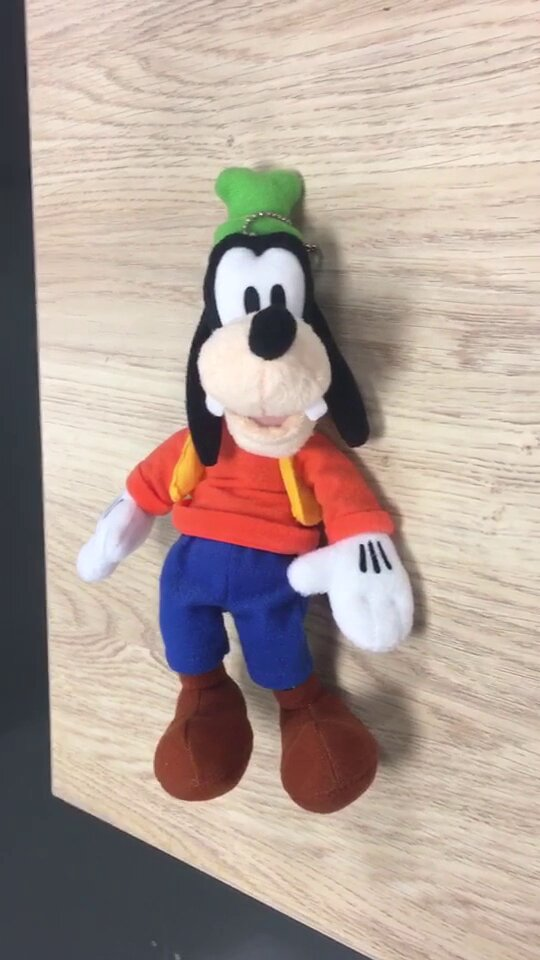goofy: (72, 162, 421, 818)
